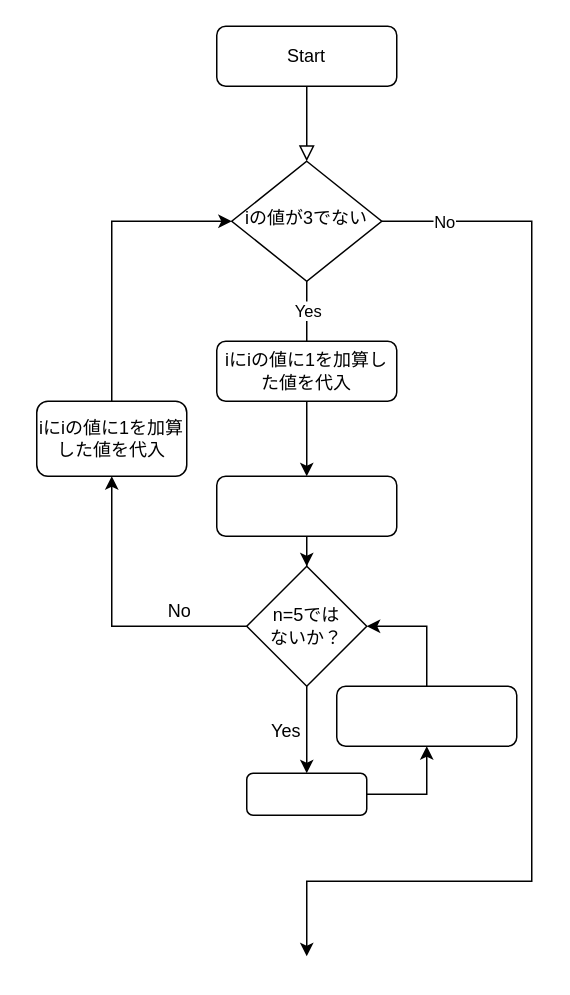
Some shapes in this 570 by 995 pixel diagram are drawn without their labels. Each missing label, with the box of its shape:
iの値を表示: (215, 475, 397, 536)
nにnの値に1を加算した値を代入: (335, 685, 517, 746)
nの値を表示: (245, 772, 367, 815)
